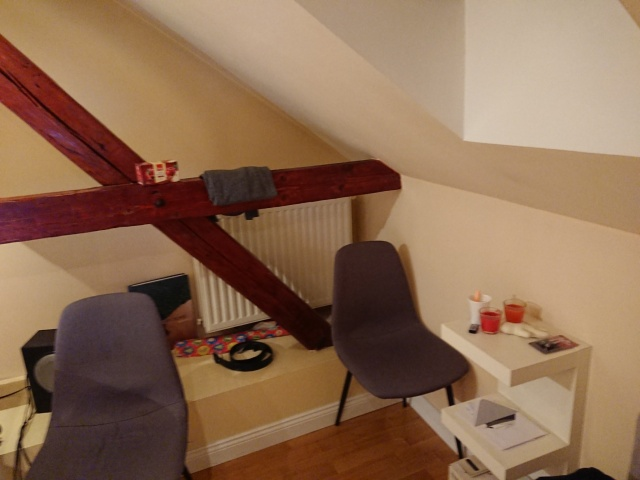Franck Apple Cinnamon Tea 60g: (132, 157, 182, 187)
